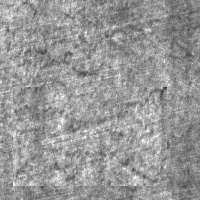crazing: (13, 87, 167, 186), (13, 108, 136, 190), (18, 20, 154, 77)
